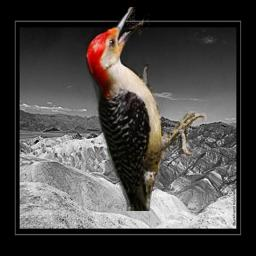Woodpecker: (86, 7, 207, 211)
